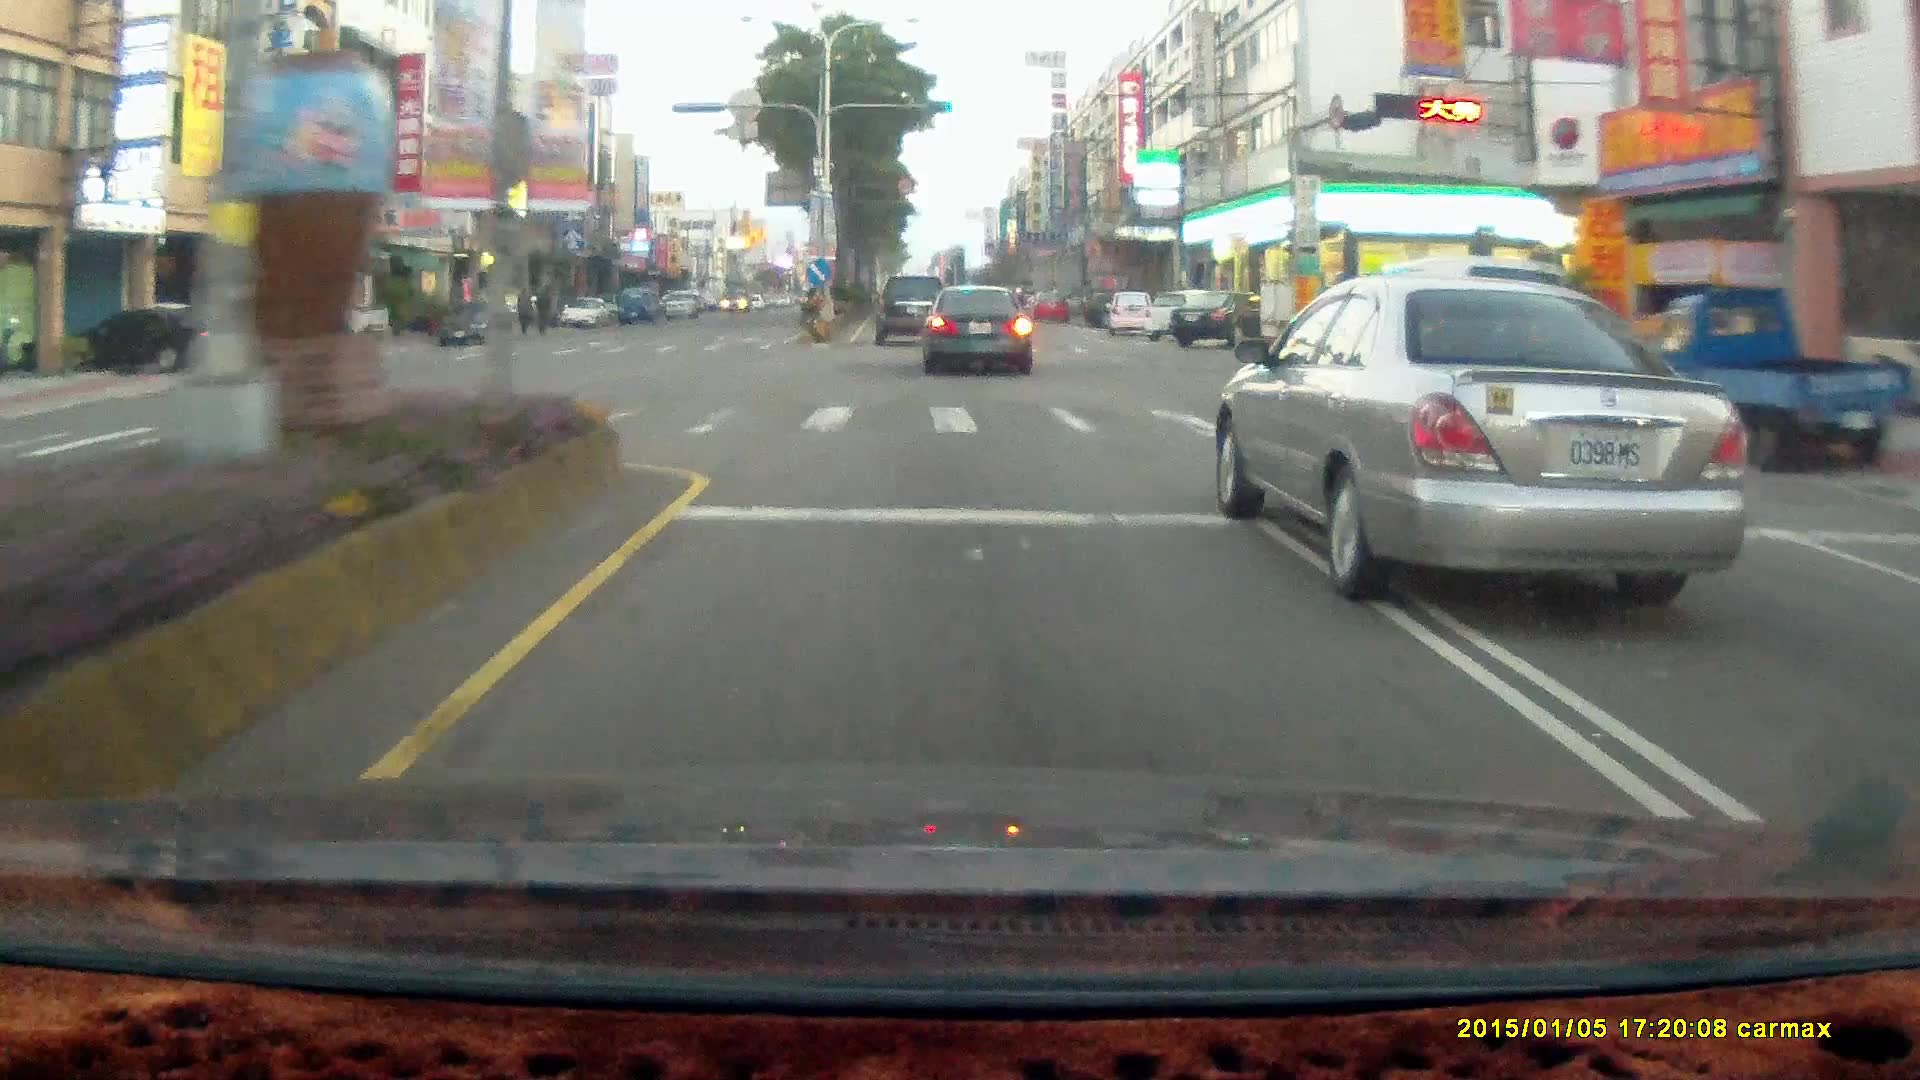pedestrian: (515, 288, 538, 337), (532, 284, 552, 336), (511, 289, 533, 339), (534, 286, 555, 335)
vehicle: (1213, 277, 1747, 595), (1649, 283, 1914, 474), (1649, 283, 1897, 473), (1337, 260, 1606, 435), (55, 307, 239, 373), (82, 302, 241, 373), (923, 286, 1034, 382), (921, 284, 1030, 377), (258, 292, 393, 362), (237, 291, 387, 355), (1168, 289, 1279, 347), (872, 273, 950, 350), (1172, 292, 1267, 349), (874, 275, 950, 346), (1141, 290, 1218, 342), (435, 303, 510, 353), (437, 306, 502, 345), (1106, 292, 1157, 341), (1100, 291, 1154, 338), (1076, 287, 1137, 328), (558, 298, 613, 331), (560, 295, 610, 327), (1026, 292, 1064, 324), (617, 289, 653, 322), (655, 290, 688, 316)
